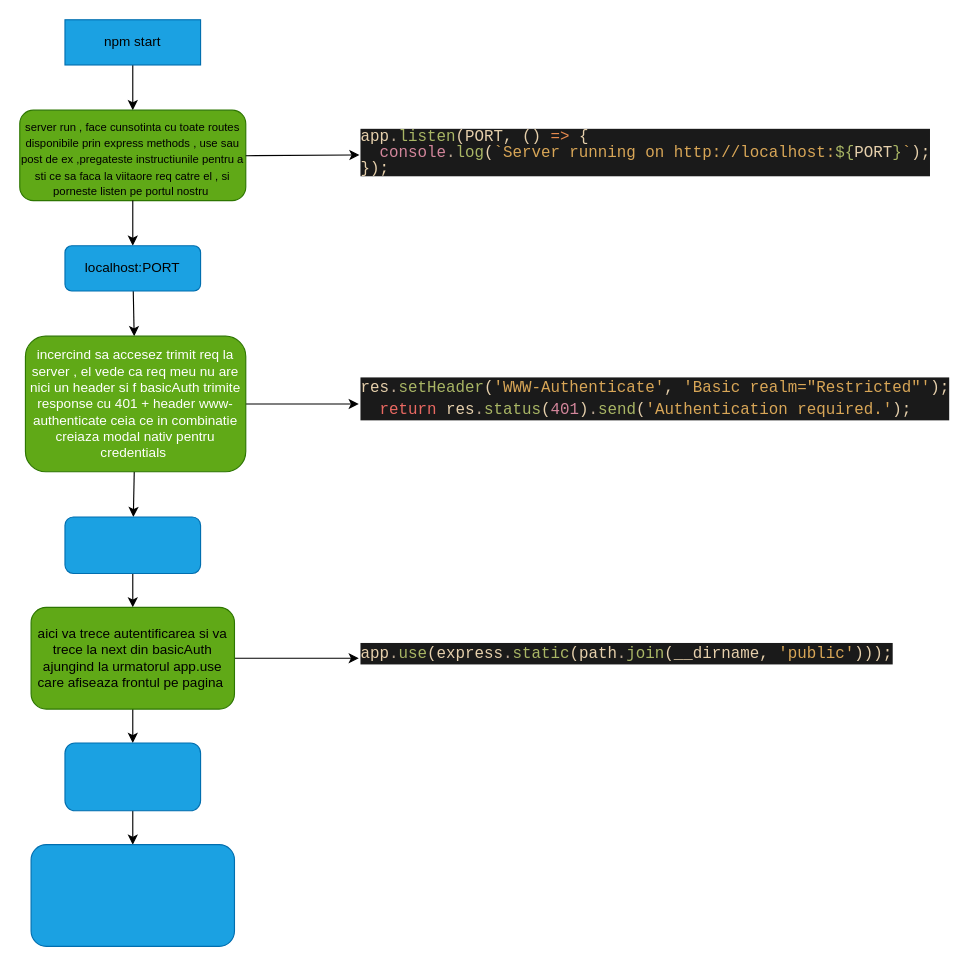
This 970x966 diagram has some shape labels left out. Here are the shapes that lost their labels. From the top down, the centre of each, then its label:
At pixel 132 544: "inseram datele si retrimitem alt req cu date pentru auth".
At pixel 132 776: "inseram datele in formular si apasam send".
